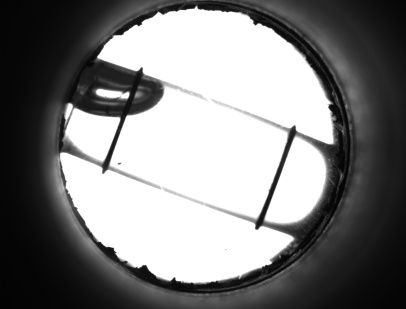line: (257, 152, 292, 211), (99, 125, 126, 155)
